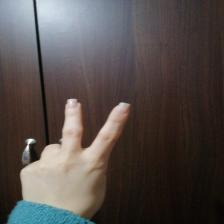two: (28, 97, 134, 210)
